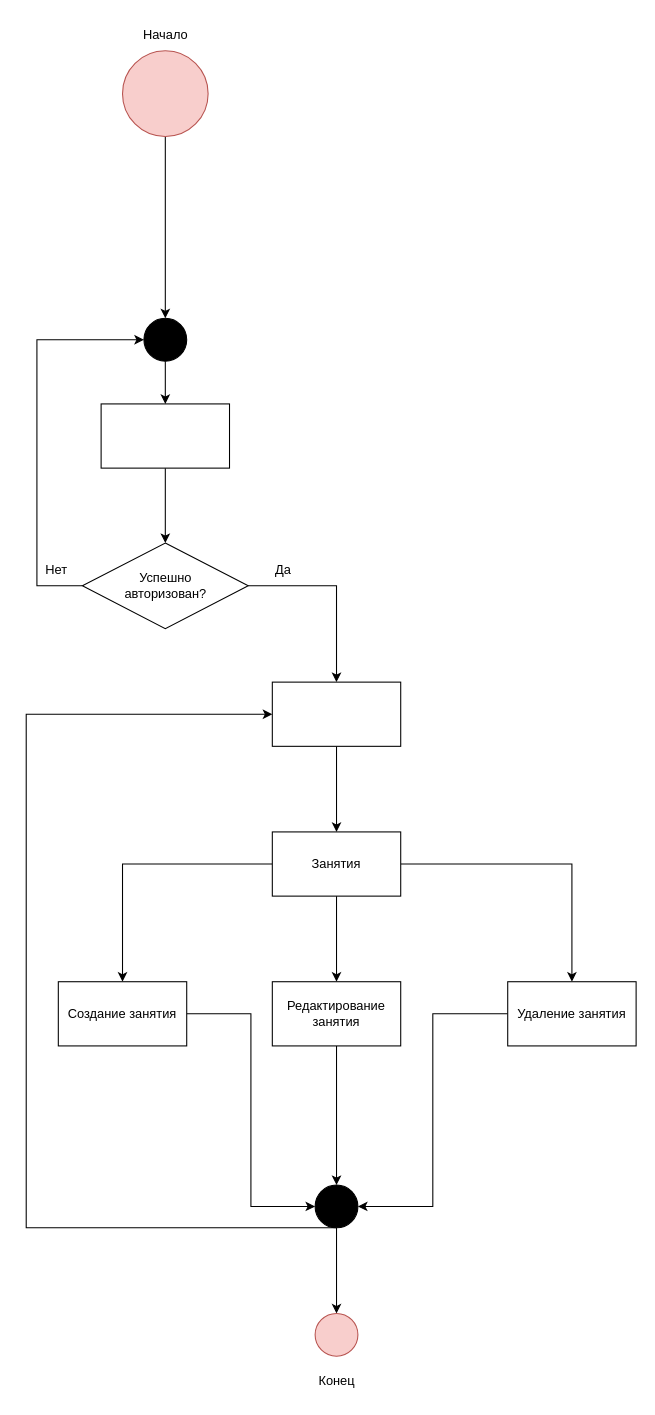
Some shapes in this 655 by 1415 pixel diagram are drawn without their labels. Here are the shapes that lost their labels. From the top down, the centre of each, then its label:
(165,435): Авторизация
(336,713): Окно "Расписание занятий"
